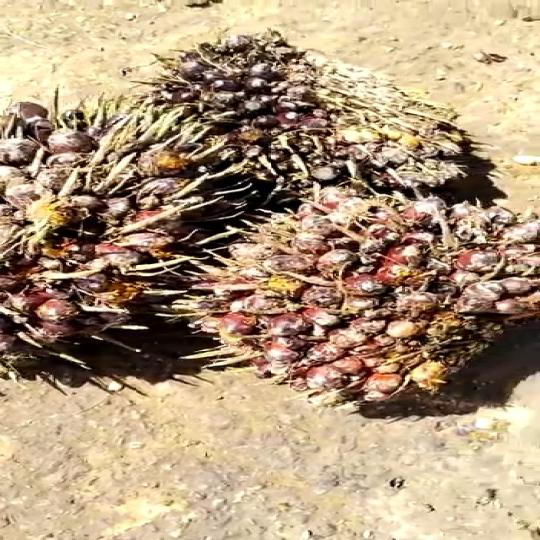kurang masak: (201, 178, 540, 404), (0, 76, 223, 367), (142, 28, 479, 210)
